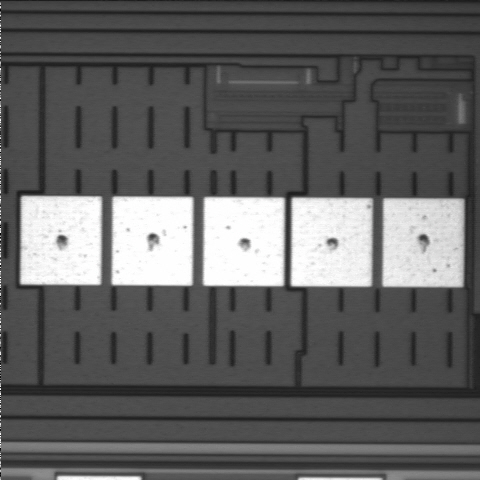pad: (20, 196, 102, 285), (203, 197, 285, 286), (382, 198, 464, 287), (112, 197, 193, 286), (291, 198, 372, 287)
